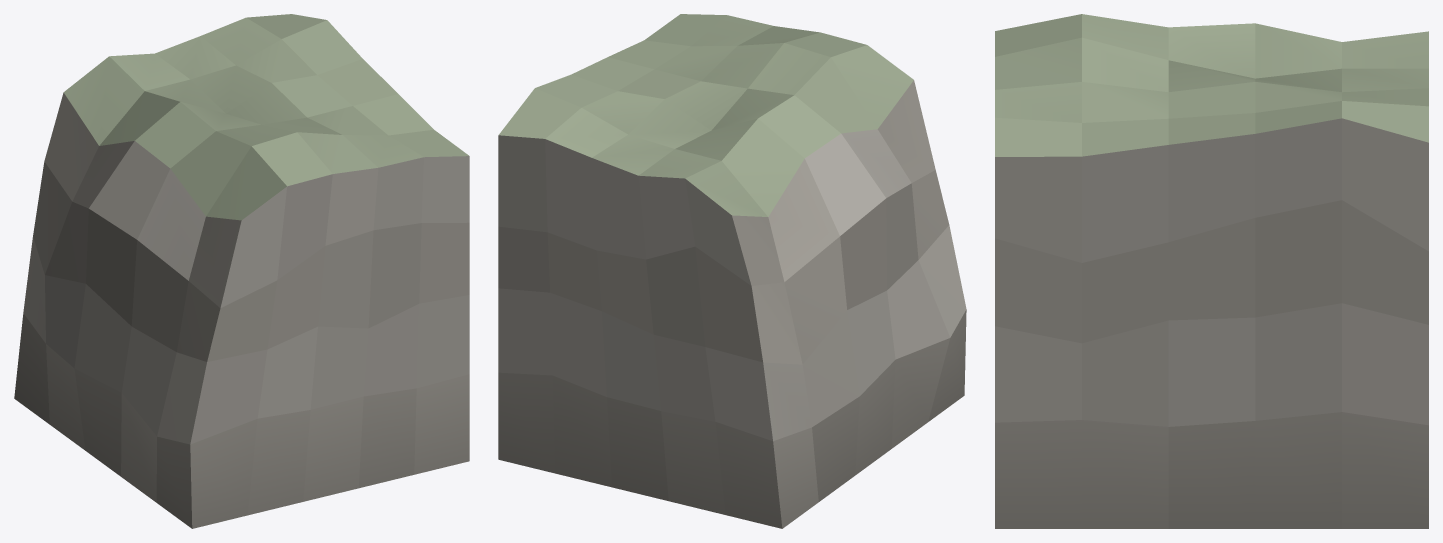
The model's file is roca_te_2.glb.
The picture shows the model from 3 angles, left to right: view 1: azimuth 30°, elevation 25°; view 2: azimuth 150°, elevation 25°; view 3: azimuth 270°, elevation 25°; orthographic projection. The views are drawn at different scales.
Visible parts, largest first — view 1: propforge-cuartos-roca_te; view 2: propforge-cuartos-roca_te; view 3: propforge-cuartos-roca_te.
Boxes of the visible parts, x1,y1,x2,y2 form: propforge-cuartos-roca_te: (14,14,469,528); propforge-cuartos-roca_te: (498,14,966,528); propforge-cuartos-roca_te: (995,14,1428,528).
Size of the model in its own units: 0.9346 by 1.04 by 1.
